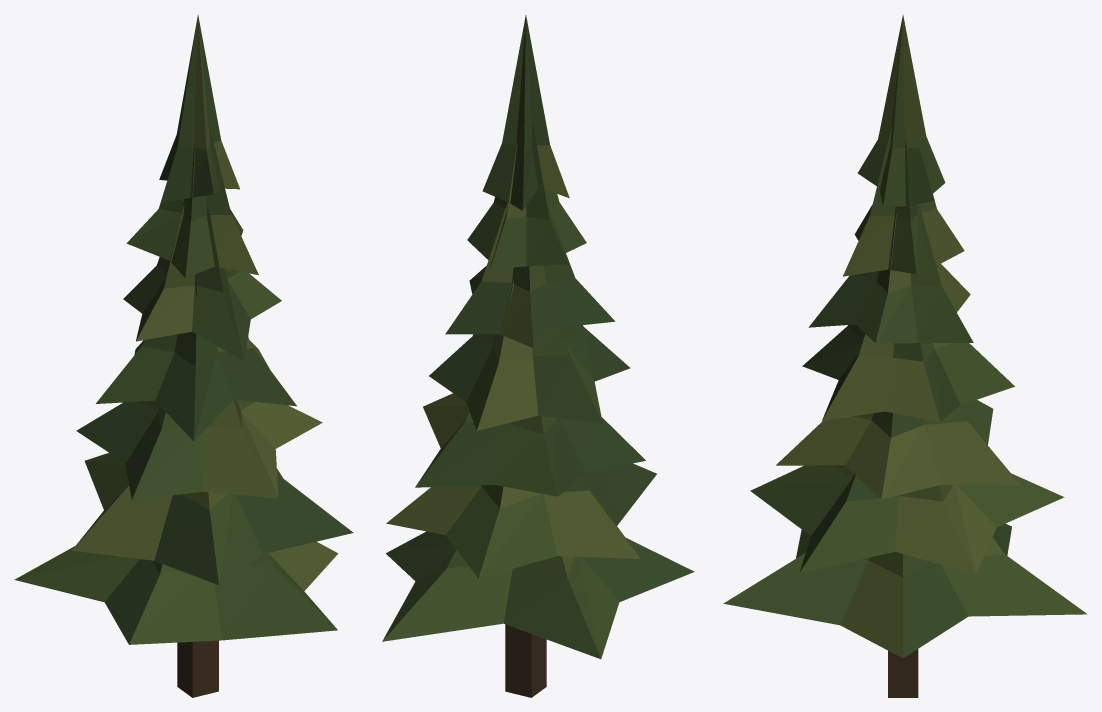
File: highwood-pine-a.glb
3 views of the same model, side by side, from view 1: azimuth 30°, elevation 25°; view 2: azimuth 150°, elevation 25°; view 3: azimuth 270°, elevation 25° (orthographic).
Parts seen in each view (by area): view 1: Highwood_ShadedPine_a; view 2: Highwood_ShadedPine_a; view 3: Highwood_ShadedPine_a.
Part boxes in pixels (x1=…): Highwood_ShadedPine_a: x1=14, y1=14, x2=353, y2=697; Highwood_ShadedPine_a: x1=382, y1=15, x2=694, y2=697; Highwood_ShadedPine_a: x1=723, y1=14, x2=1087, y2=697.
Bounding box in the file's own units: 2.77 × 6.62 × 3.23.
